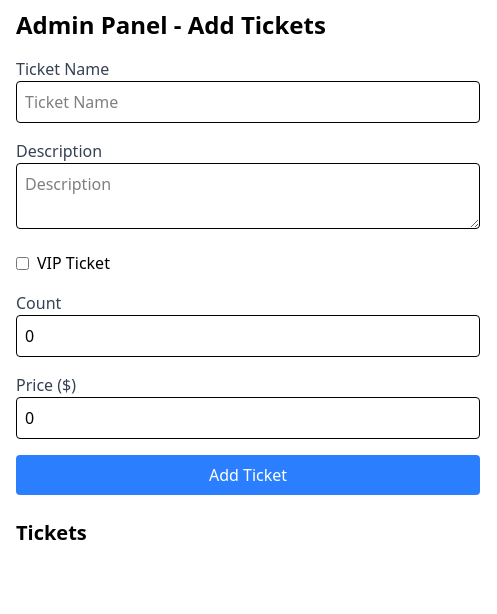
Test case: Admin Component › should add a ticket
The image size is (497, 614).
Type "New Ticket" into the field named "name" at (248, 102), box [16,81,480,123]
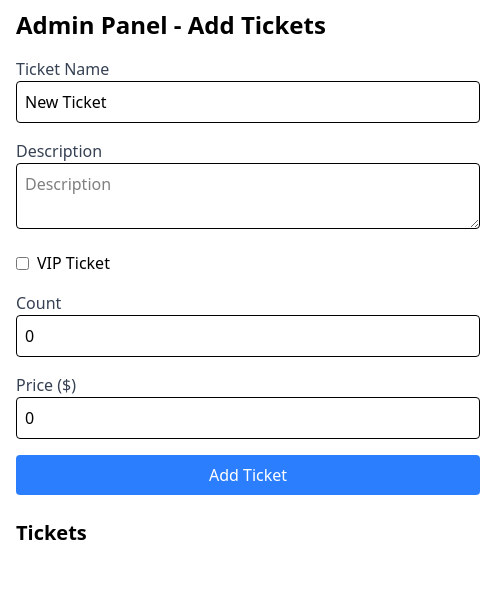
Type "Description of the new ticket" into the text box named "description" at (248, 196), box [16,163,480,229]
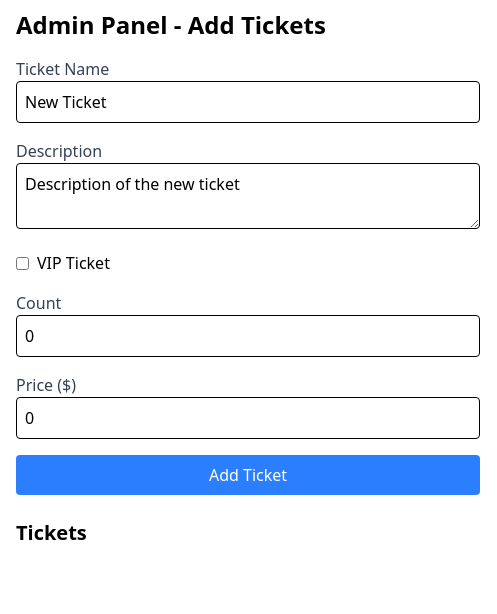
Replace the text in the number field named "count" with "10" at (248, 336), box [16,315,480,357]
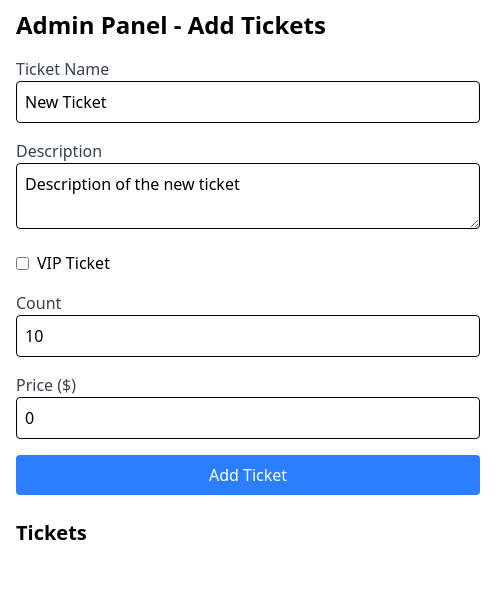
Replace the text in the number field named "price" with "50" at (248, 418), box [16,397,480,439]
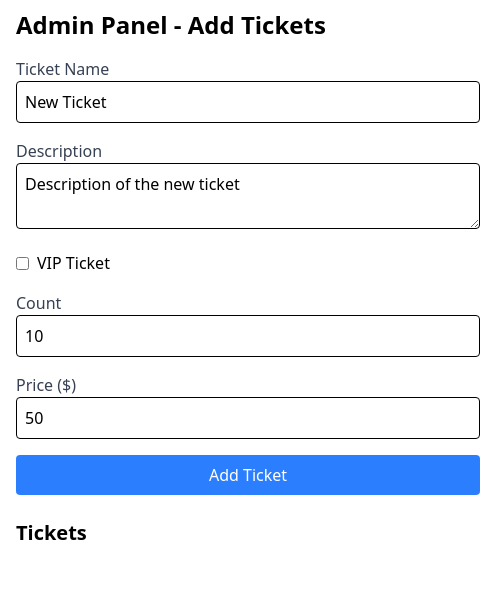
Submit the form
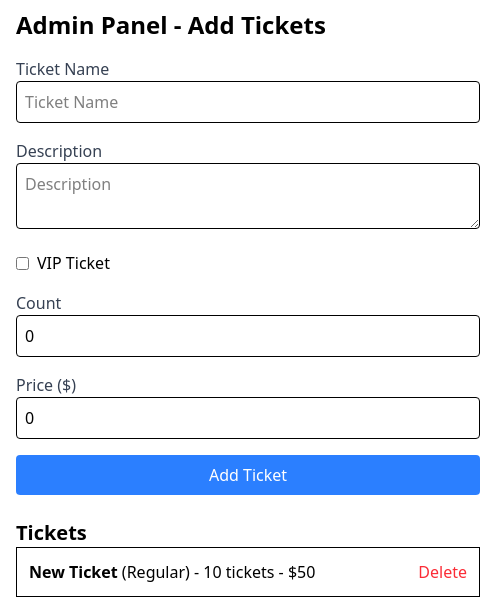
Check: the text "New Ticket" is shown, box [29,561,118,583]
